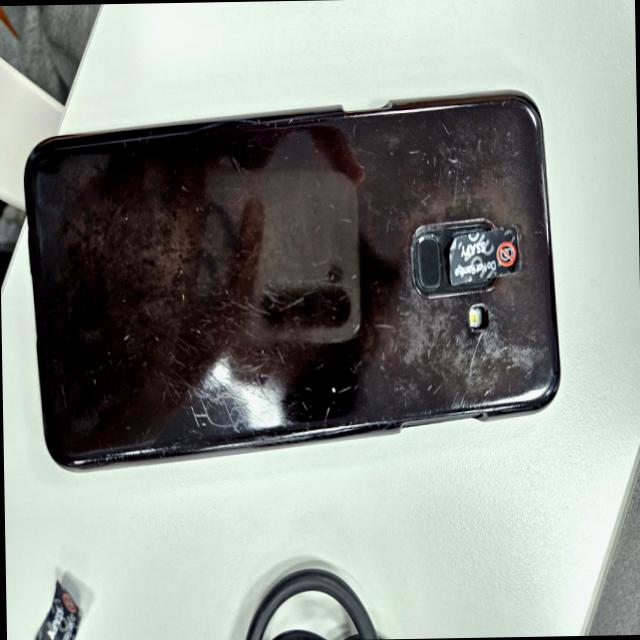phone: (21, 90, 561, 474)
removed_sticker: (444, 225, 518, 288)
